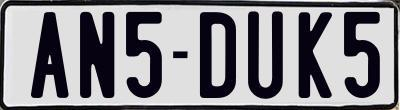5: (125, 9, 166, 98), (344, 10, 381, 100)
A: (30, 9, 69, 98)
D: (199, 9, 241, 95)
K: (299, 10, 337, 98)
N: (79, 11, 116, 103)
U: (248, 9, 287, 100)
